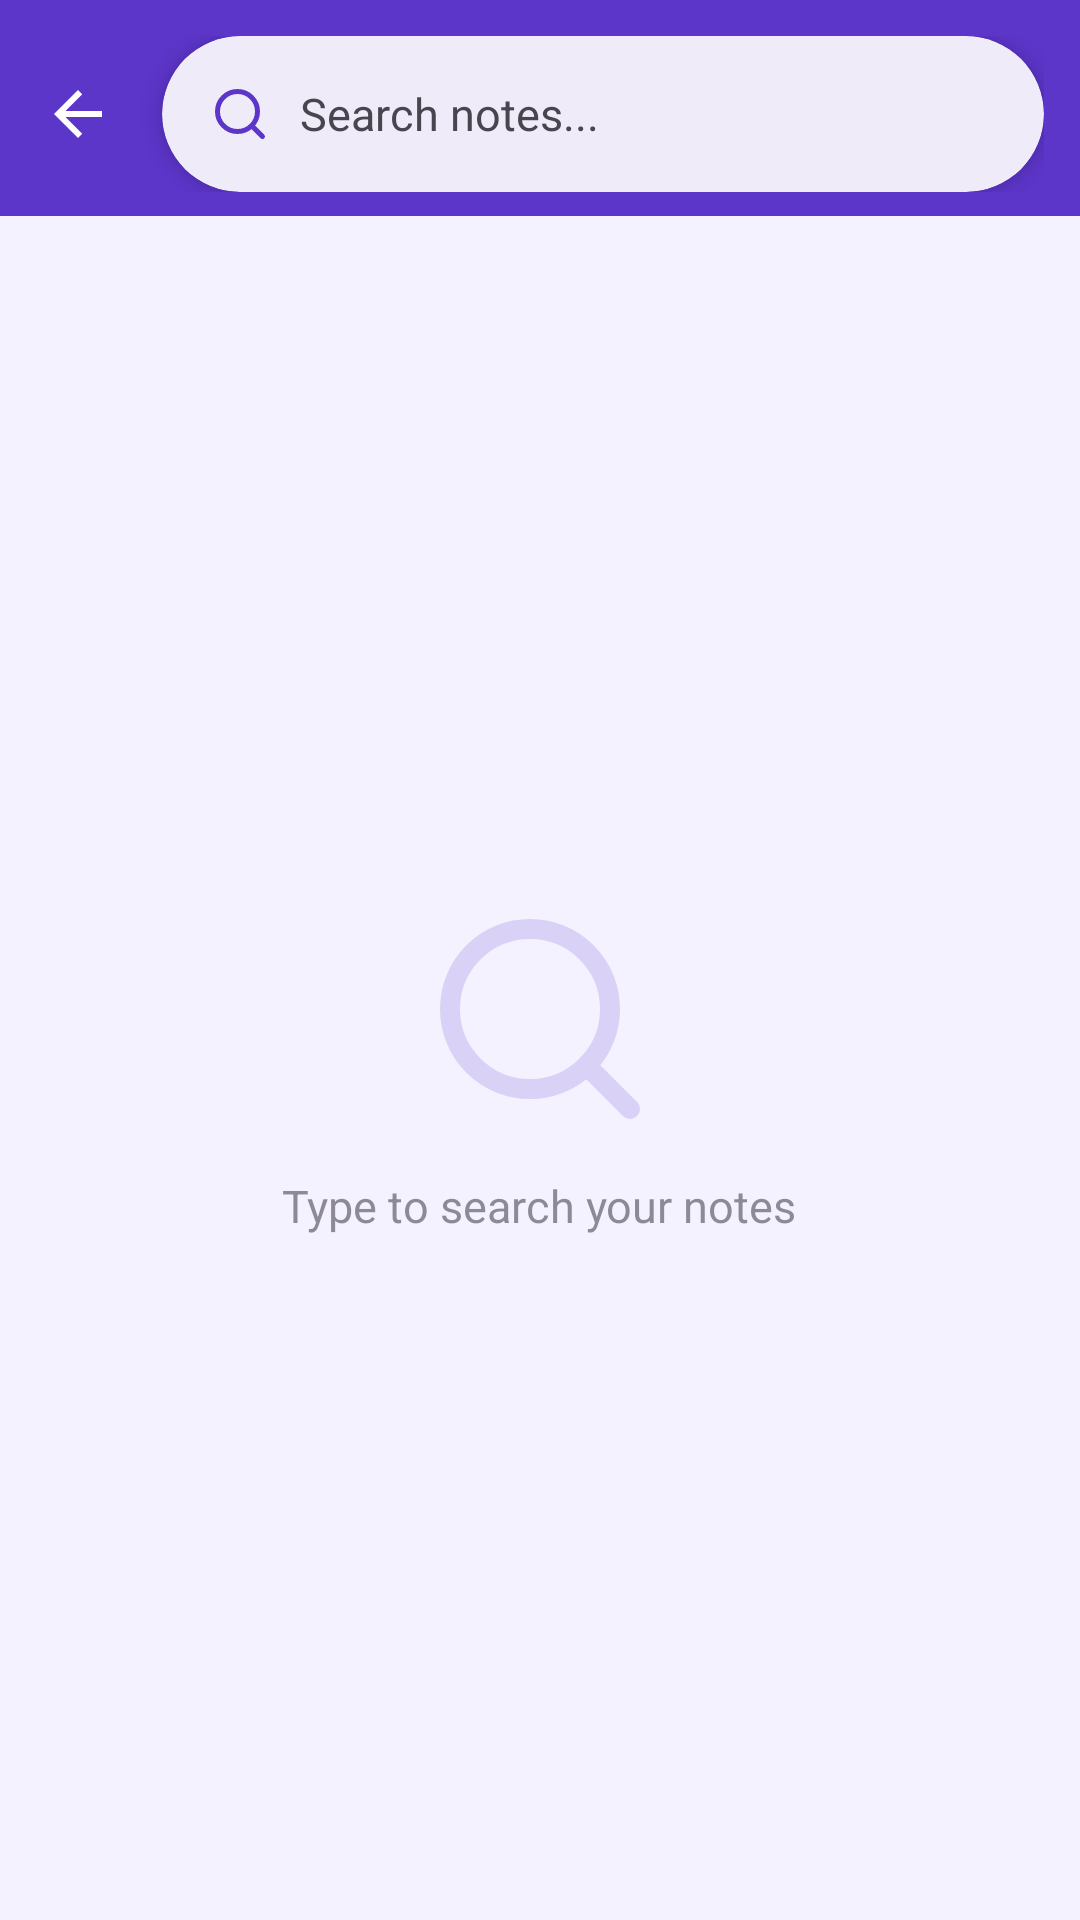

Where to tap for icons on this 1080*1920 app screen, as point (x, y):
Back: point (78, 114)
